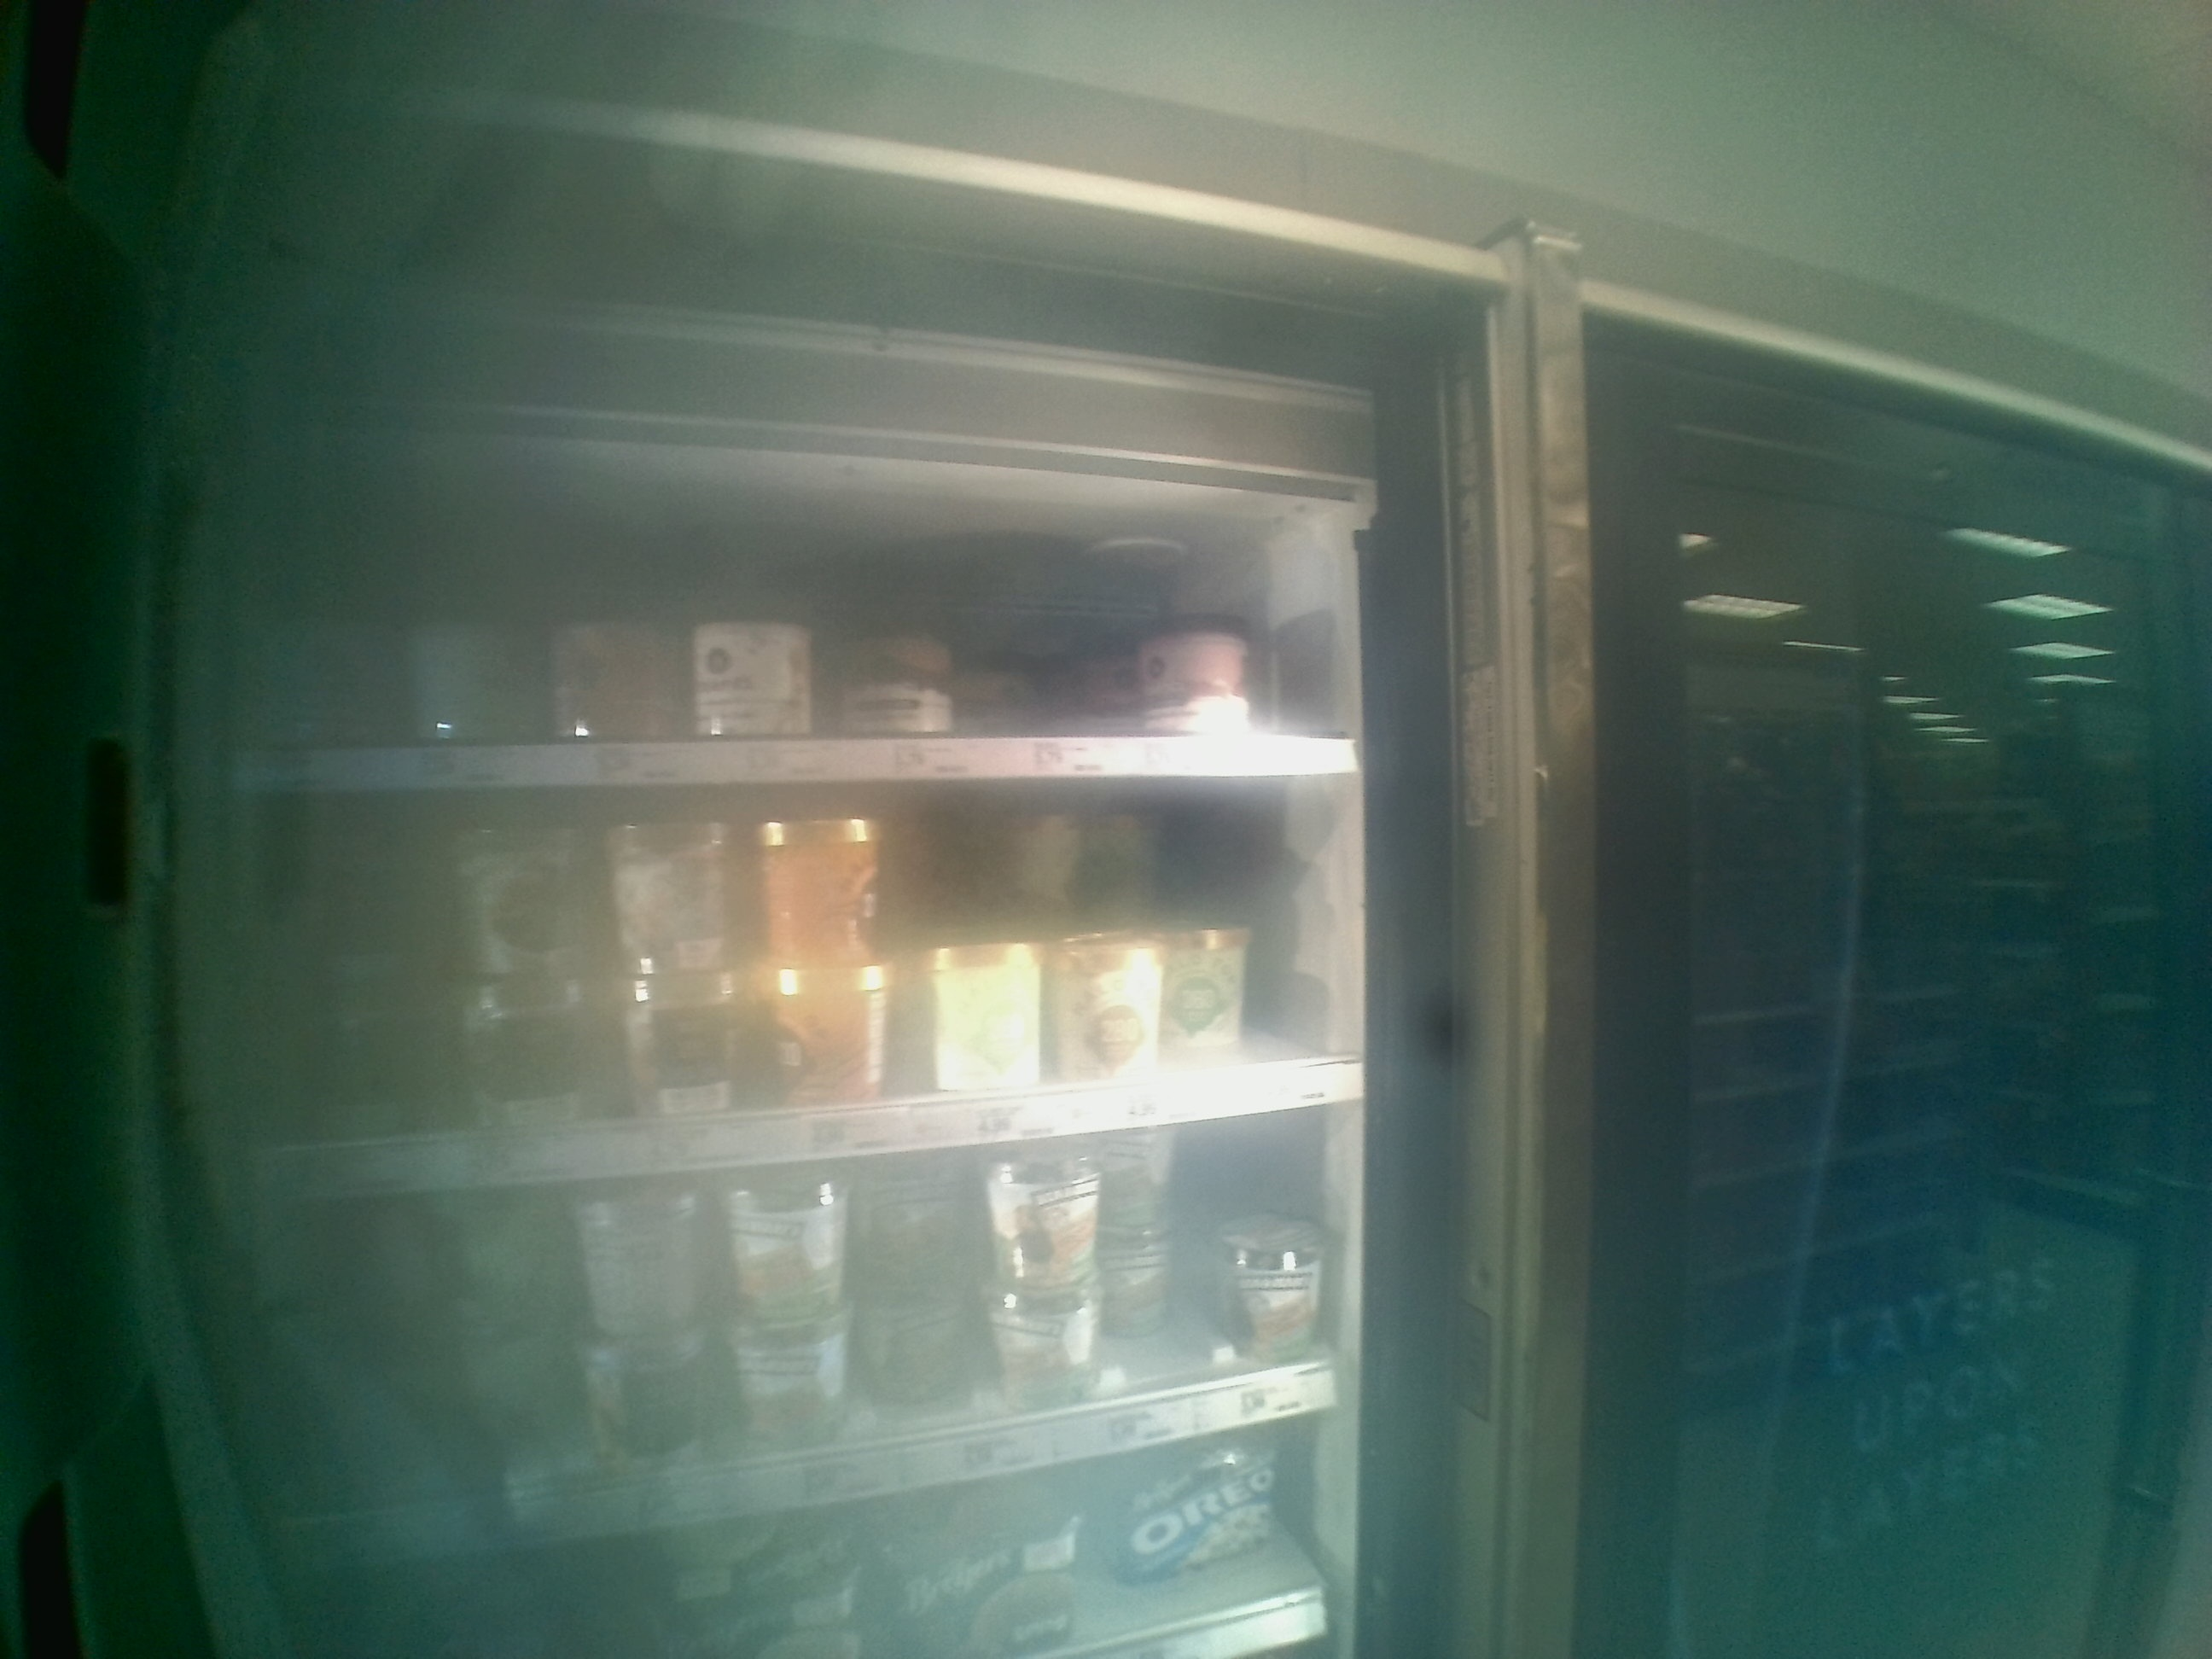shelf: (228, 1100, 1366, 1575), (230, 788, 1371, 1202), (233, 472, 1355, 788)
